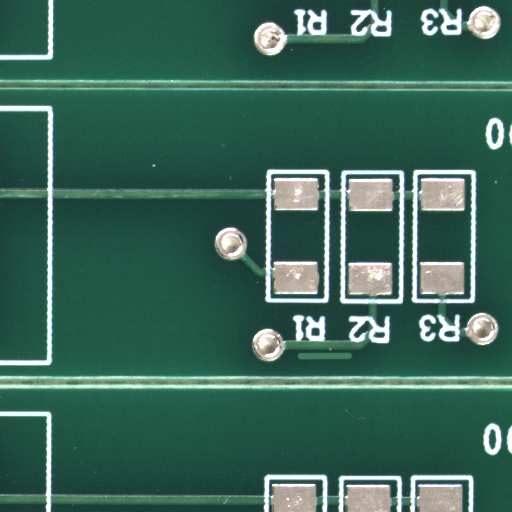Spurious_copper: (324, 355, 383, 366)
